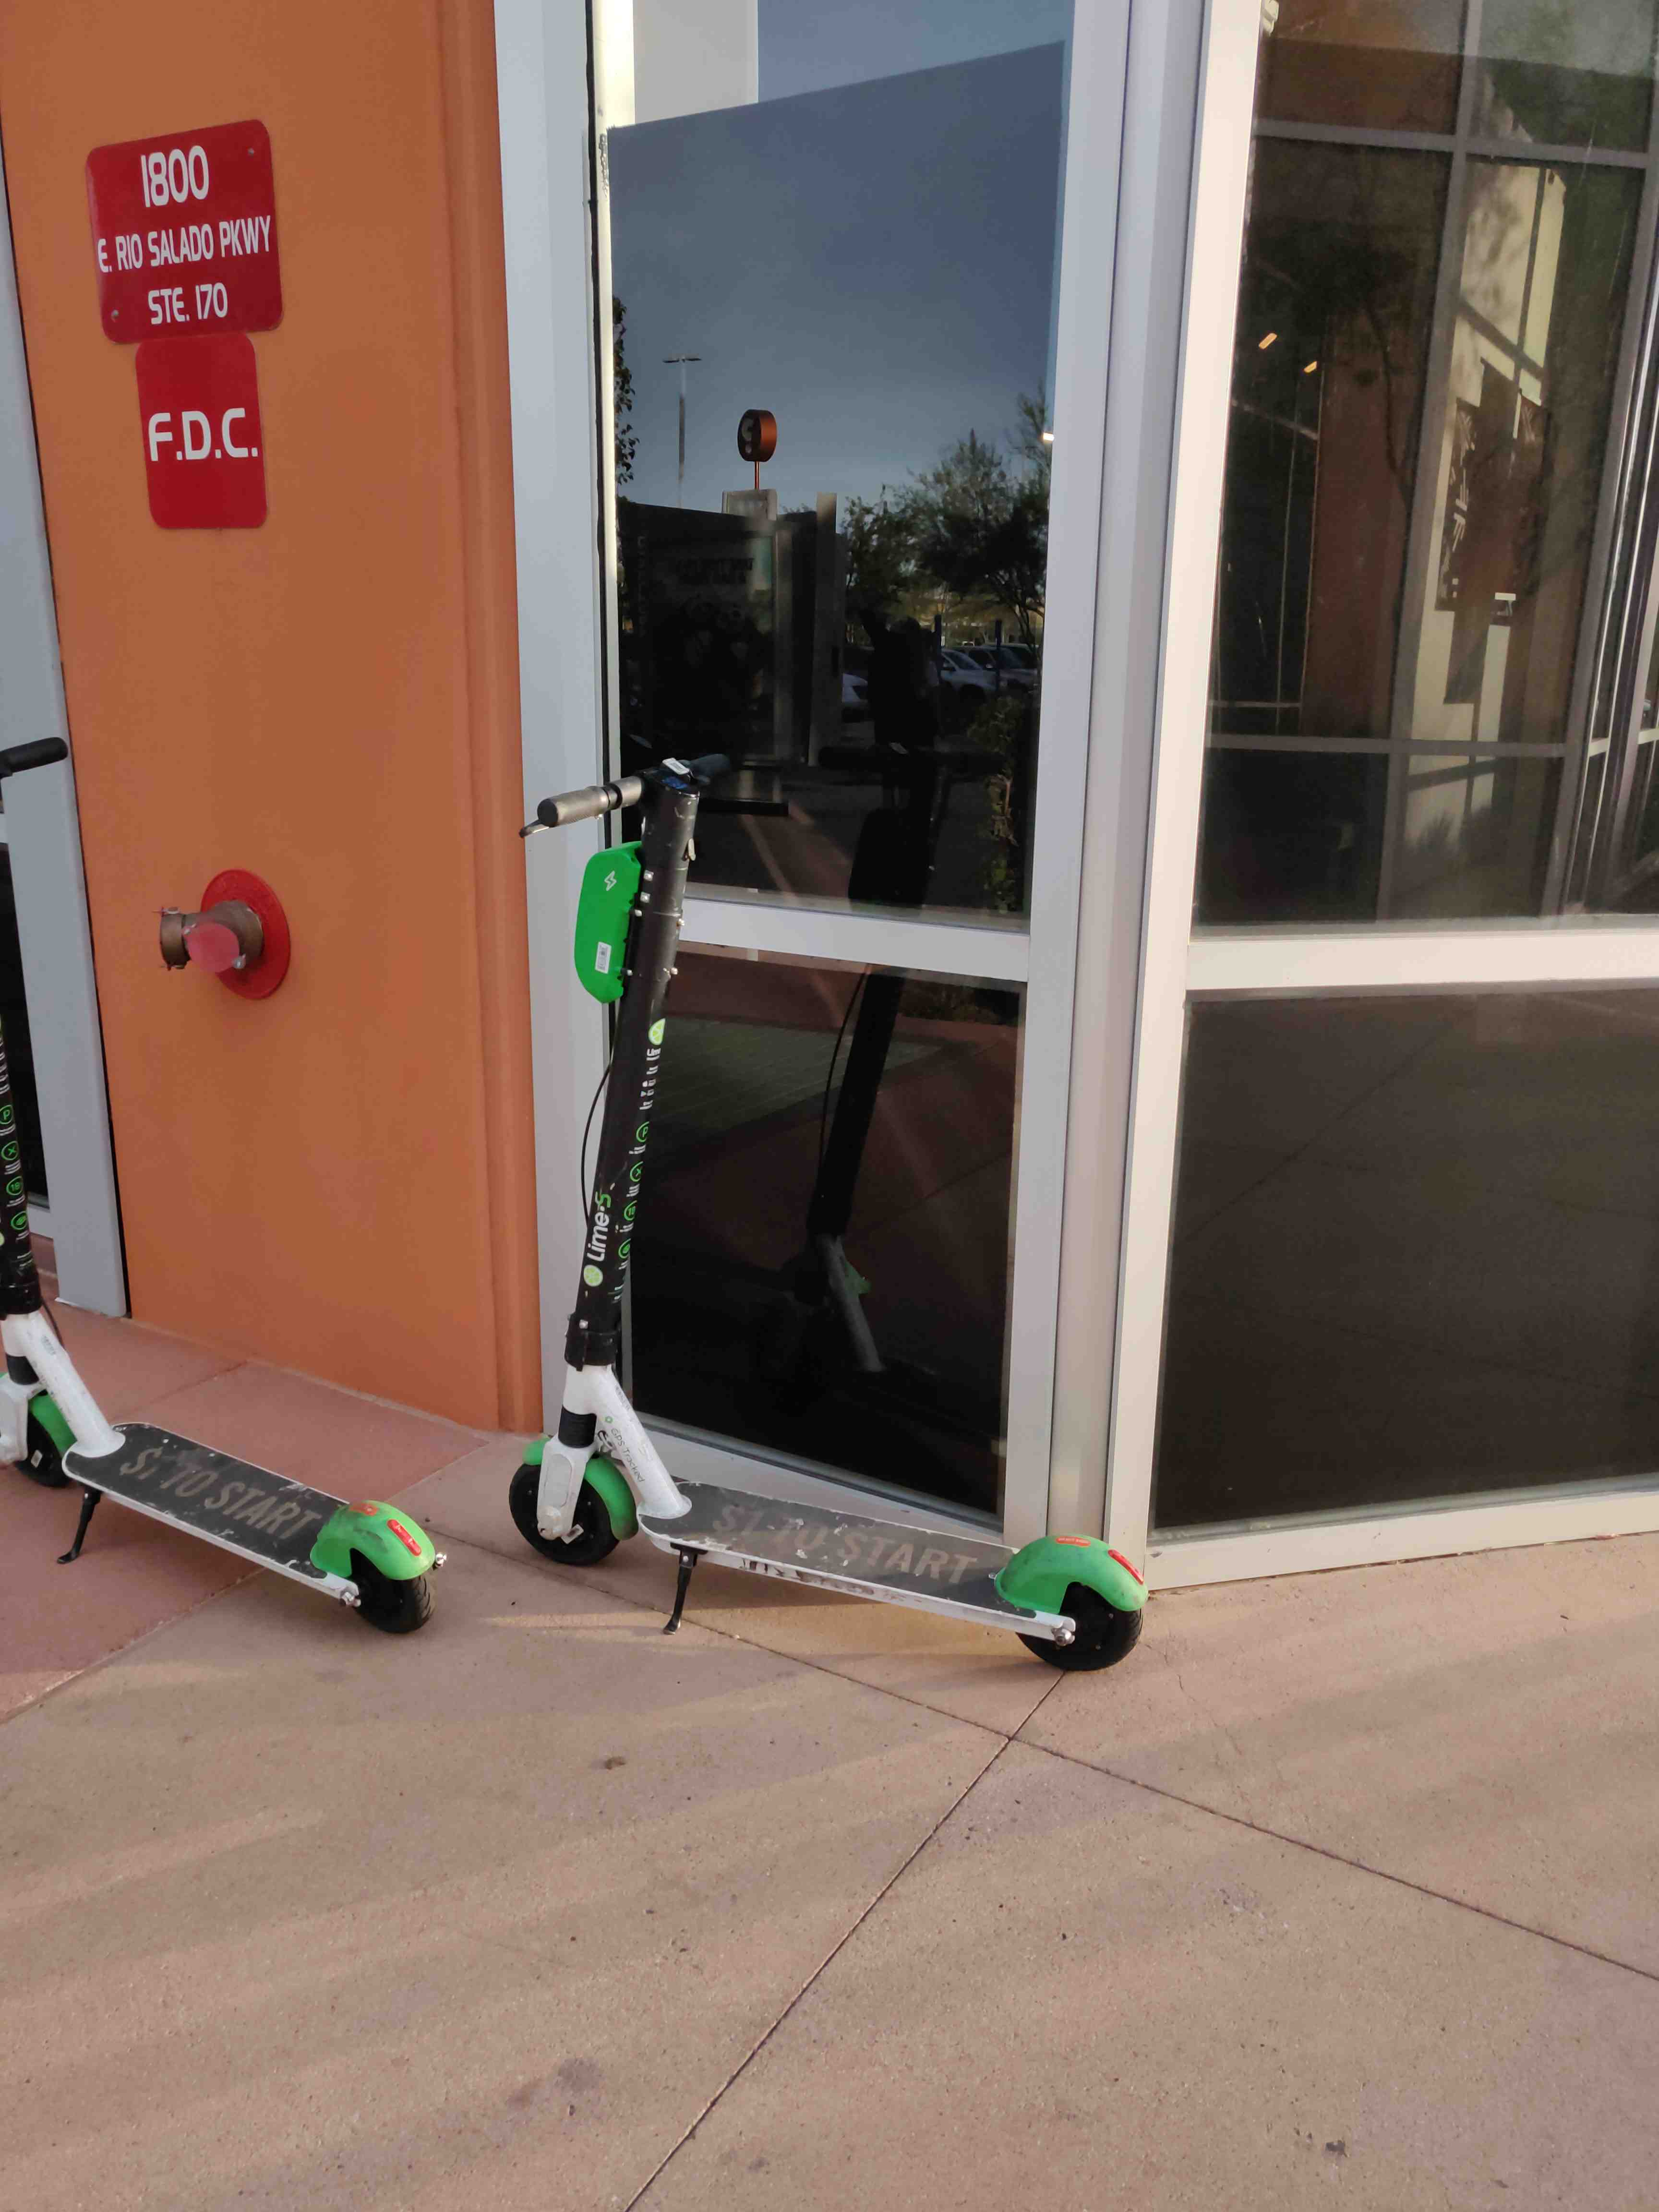scooter: (493, 747, 1168, 1689), (0, 719, 467, 1656)
